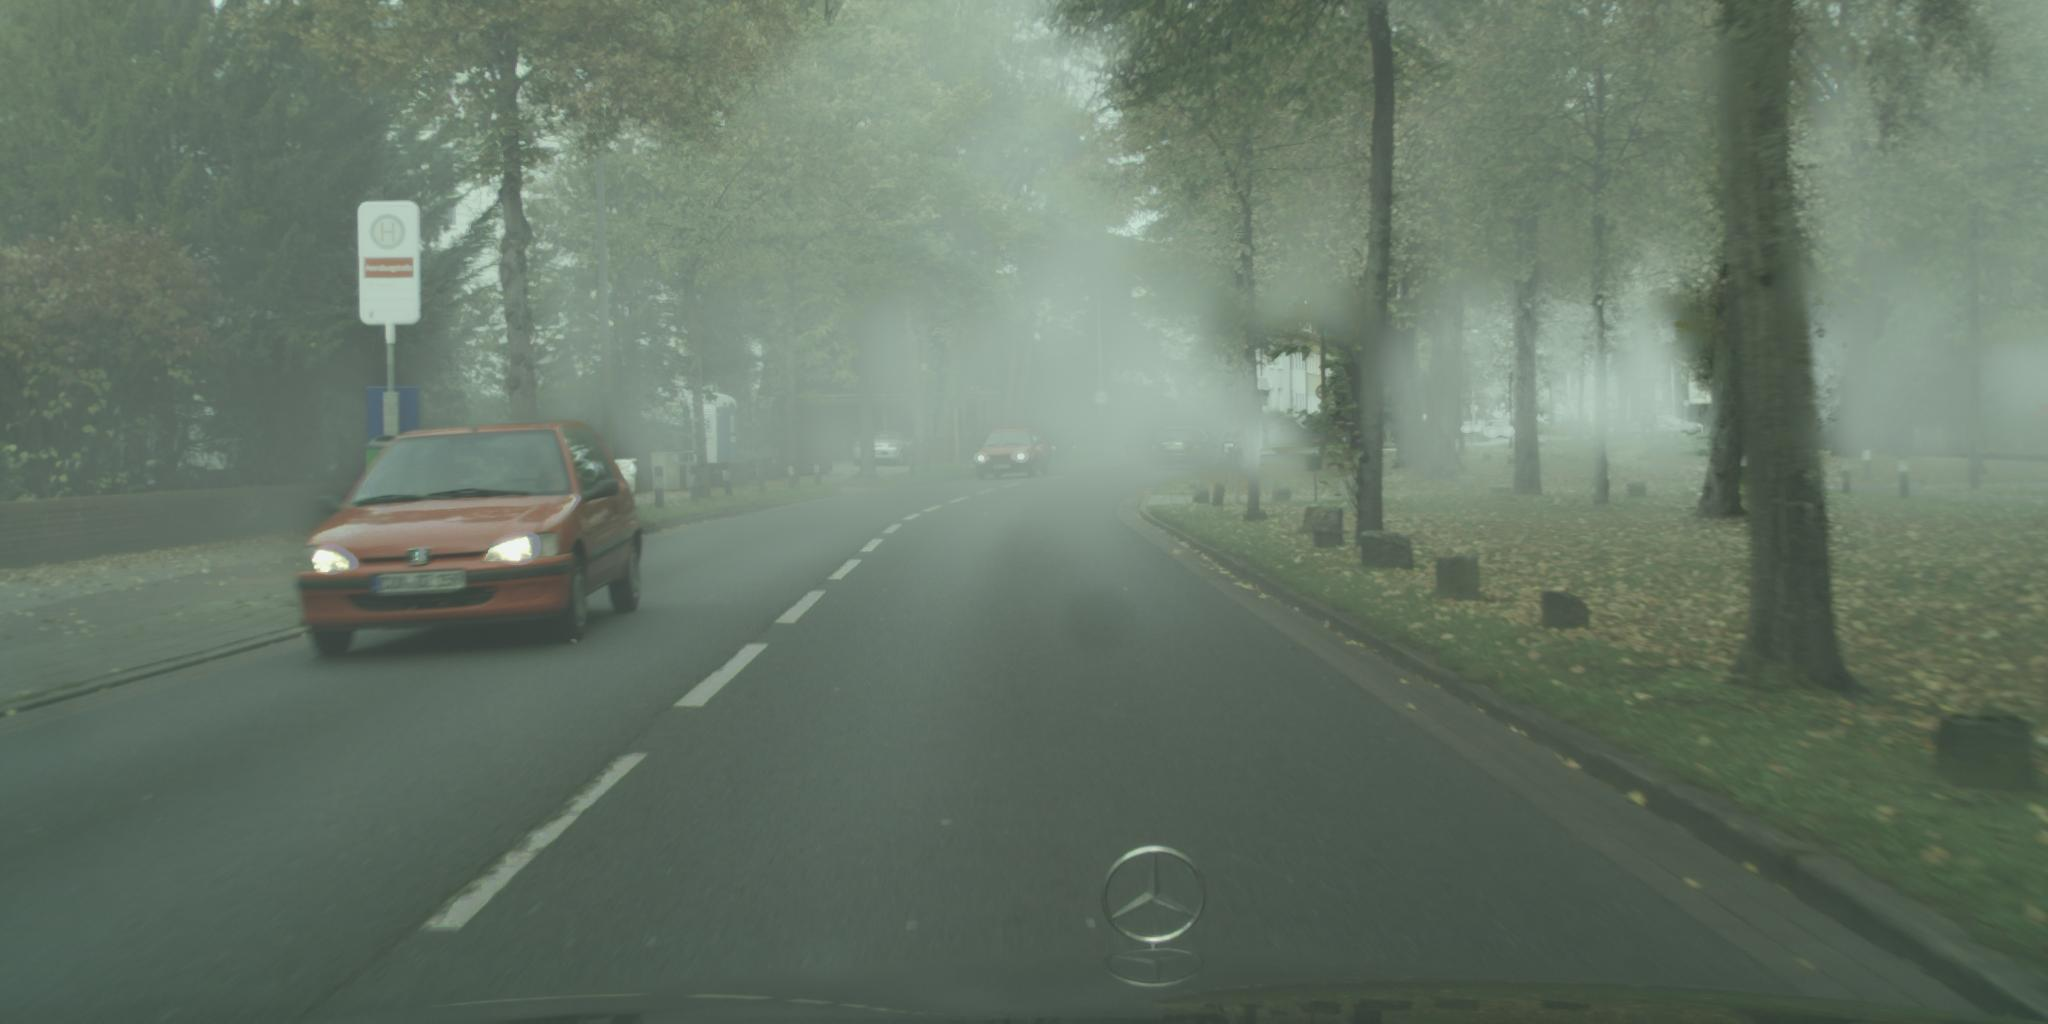car: (296, 421, 644, 660), (974, 428, 1051, 481), (1151, 427, 1221, 470), (853, 434, 916, 470)
